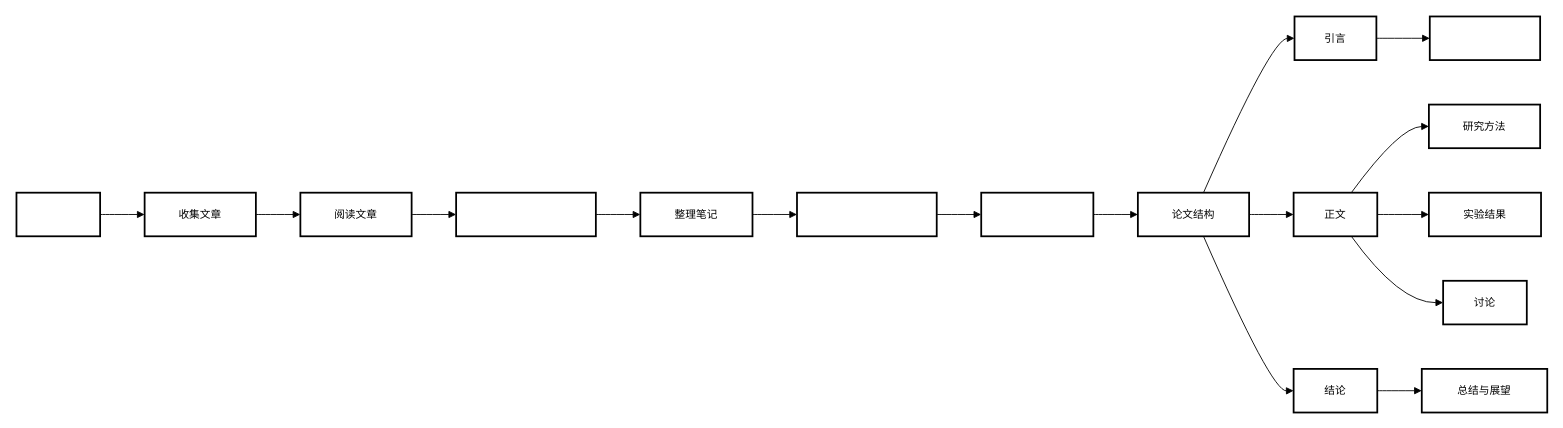
This 1563x428 diagram has some shape labels left out. Each missing label, with the centre of its shape:
开始: [58,214]
总结主要内容: [525,214]
撰写笔记: [1037,214]
构建思维导图: [866,214]
背景介绍: [1484,38]
